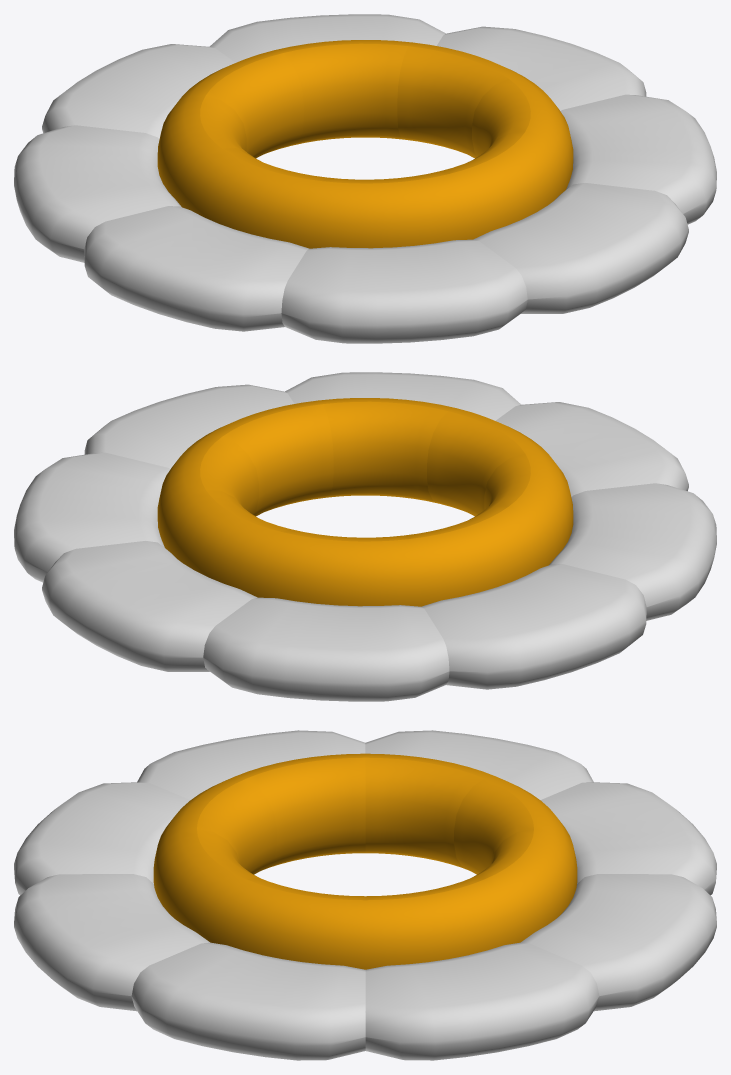
File: sofa.fbx
3 renders of one model, top to bottom at view 1: azimuth 30°, elevation 25°; view 2: azimuth 150°, elevation 25°; view 3: azimuth 270°, elevation 25°, orthographic.
Parts seen in each view (by area): view 1: Cube.001, Cube.002; view 2: Cube.001, Cube.002; view 3: Cube.001, Cube.002.
Part boxes in pixels (box(x1,y1,x2,y2)): Cube.001: box(14, 14, 716, 343); Cube.002: box(157, 40, 573, 248); Cube.001: box(14, 372, 716, 701); Cube.002: box(157, 398, 573, 606); Cube.001: box(14, 730, 716, 1060); Cube.002: box(153, 753, 577, 969).
Bounding box in the file's own units: 631 × 90.59 × 631.
